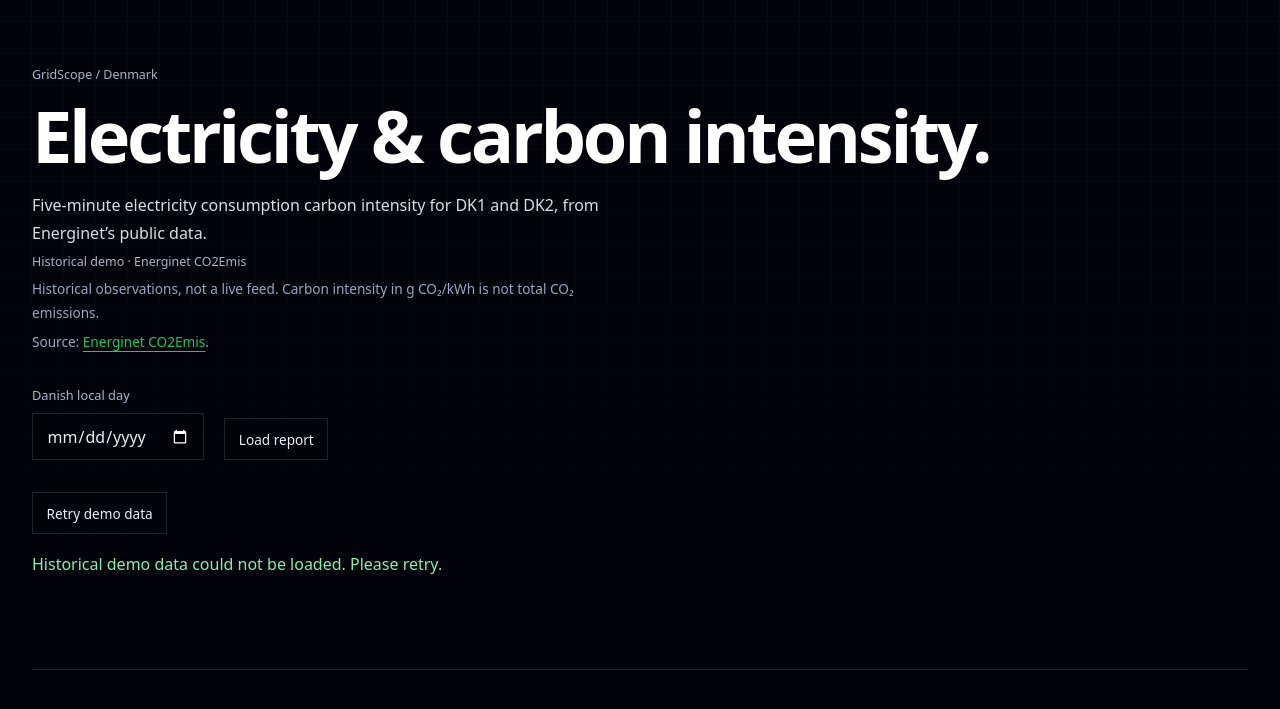
Test: missing manifest.json shows useful errors and can recover
Check: the message shows "Historical demo data could not be loaded", box [32,553,442,575]
What coordinates should you click on to do the following:
click the button "Retry demo data"
I would click on:
 (100, 513)
Its box is [32,492,167,534].
(page scrolled)
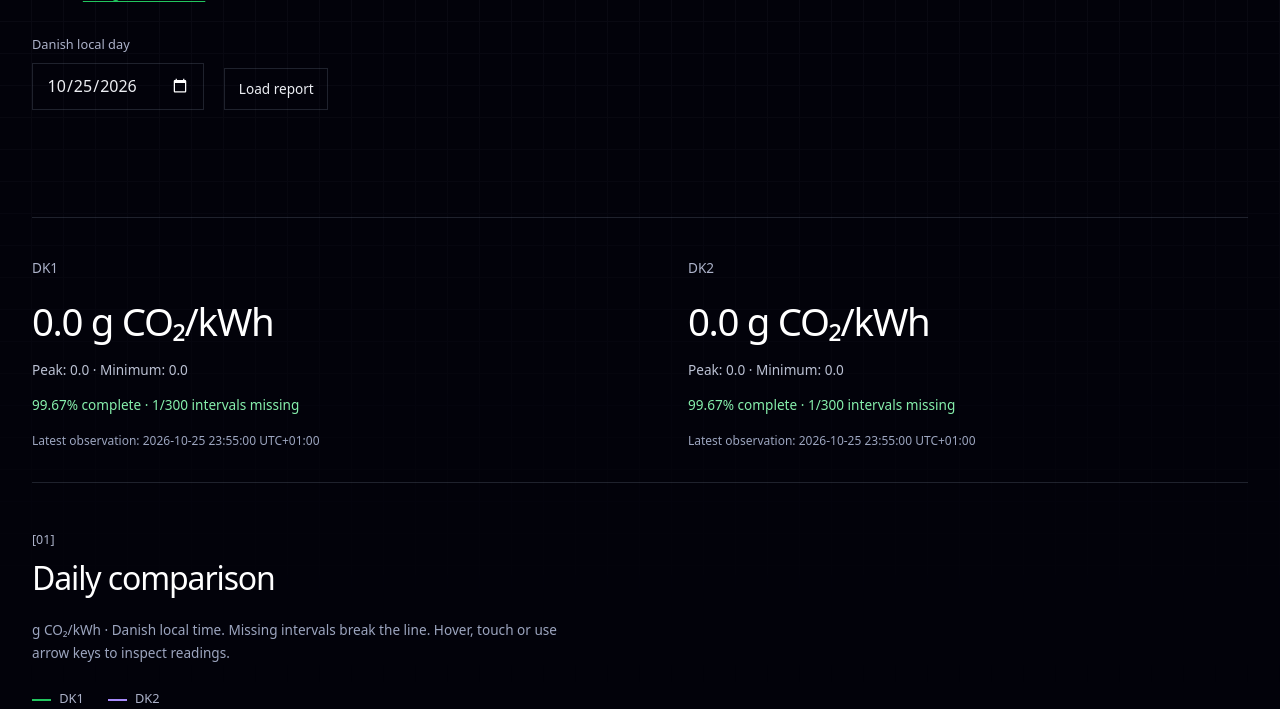
Check: the element "DK1" is shown, box [32,258,320,449]
Check: the message "Historical demo data could not be loaded. Please retry." is gone
